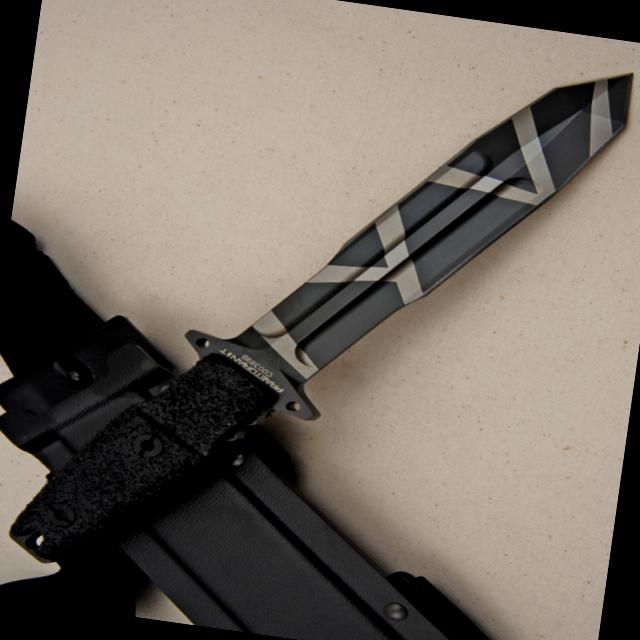knife: (168, 7, 639, 470)
